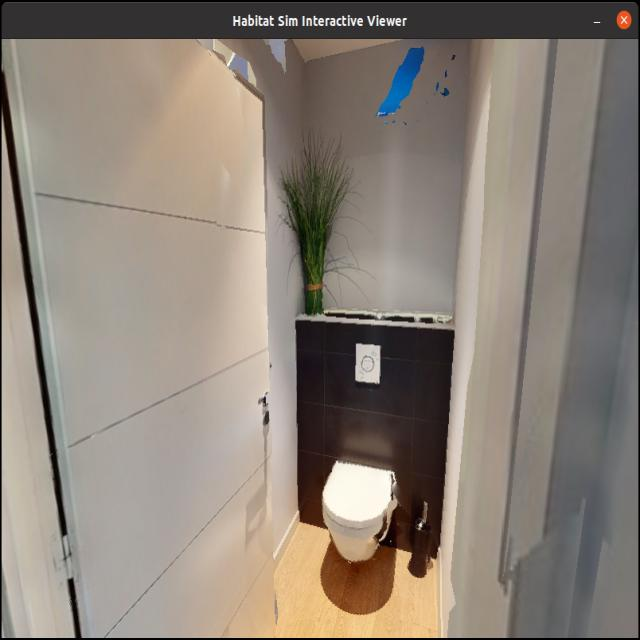door: (35, 44, 287, 640)
toilet: (303, 442, 406, 576)
